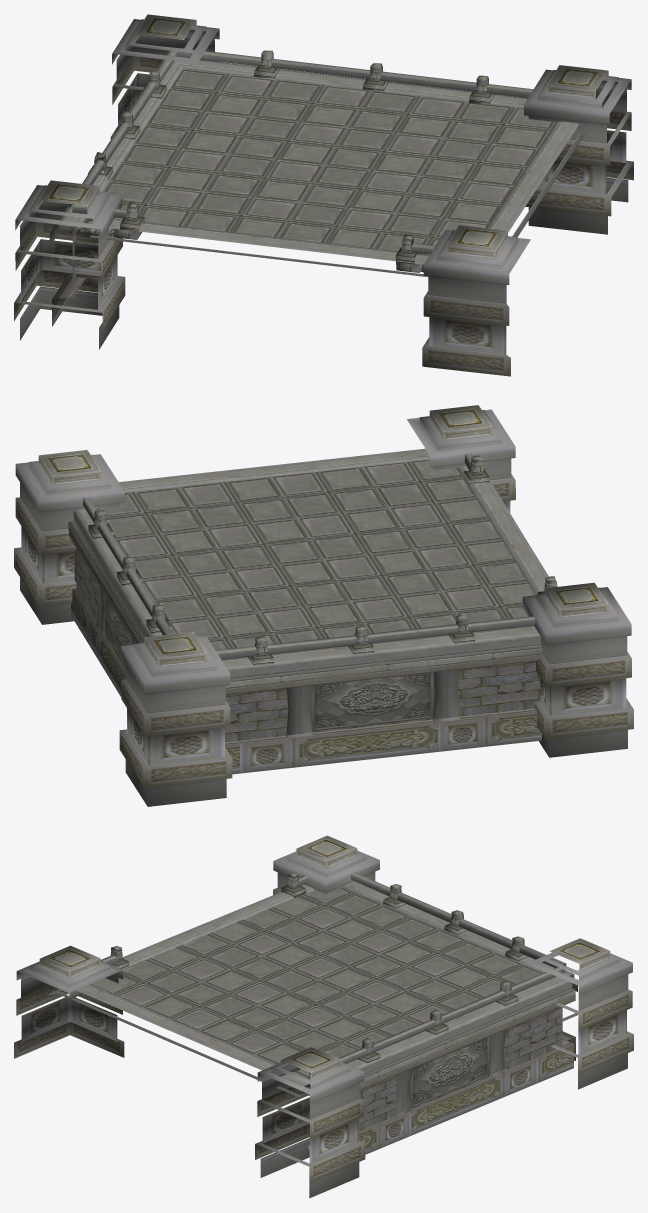
The model's file is S2_Build_XSC082_H1.FBX.
The picture shows the model from 3 angles, top to bottom: view 1: azimuth 30°, elevation 25°; view 2: azimuth 150°, elevation 25°; view 3: azimuth 270°, elevation 25°; orthographic projection. The views are drawn at different scales.
Visible parts, largest first — view 1: S2_Build_XSC082_H1; view 2: S2_Build_XSC082_H1; view 3: S2_Build_XSC082_H1.
Boxes of the visible parts, left/top/right/bottom form: S2_Build_XSC082_H1: left=14, top=14, right=633, bottom=376; S2_Build_XSC082_H1: left=14, top=405, right=633, bottom=806; S2_Build_XSC082_H1: left=14, top=835, right=633, bottom=1198.
Bounding box in the file's own units: 3463 × 737 × 3515.
